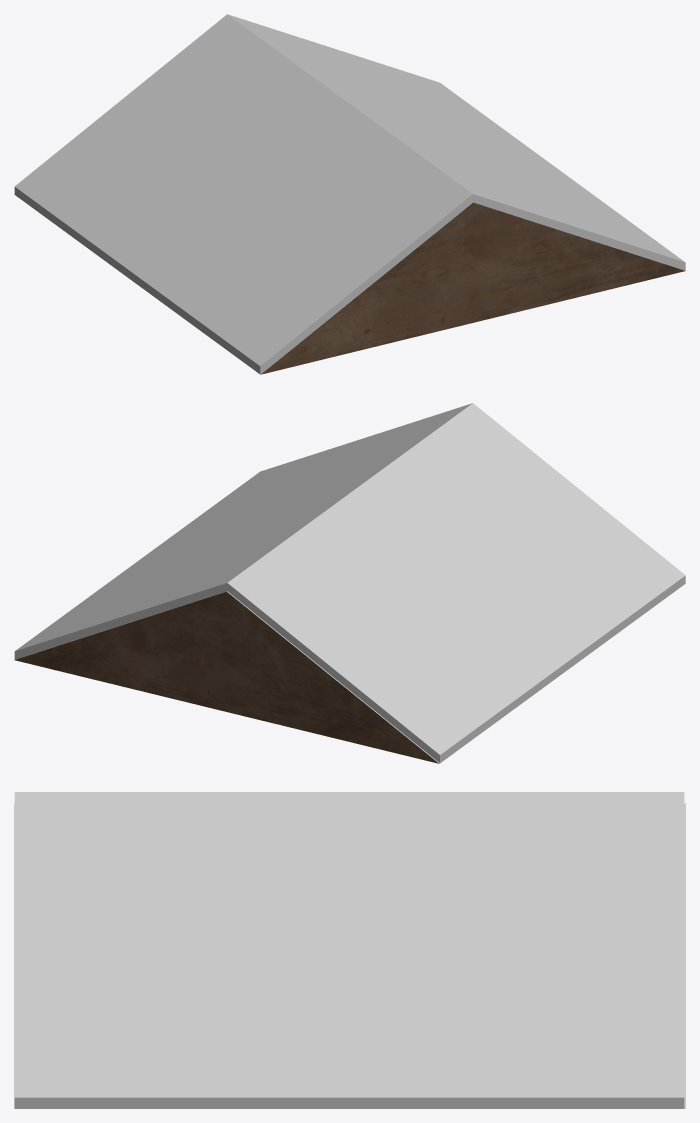
The model's file is rooftop.fbx.
The picture shows the model from 3 angles, top to bottom: view 1: azimuth 30°, elevation 25°; view 2: azimuth 150°, elevation 25°; view 3: azimuth 270°, elevation 25°; orthographic projection. The views are drawn at different scales.
Visible parts, largest first — view 1: rooftop; view 2: rooftop; view 3: rooftop.
Boxes of the visible parts, left/top/right/bottom form: rooftop: left=14, top=14, right=685, bottom=374; rooftop: left=14, top=403, right=685, bottom=763; rooftop: left=14, top=792, right=685, bottom=1108.
Size of the model in its own units: 200 by 57.81 by 201.
